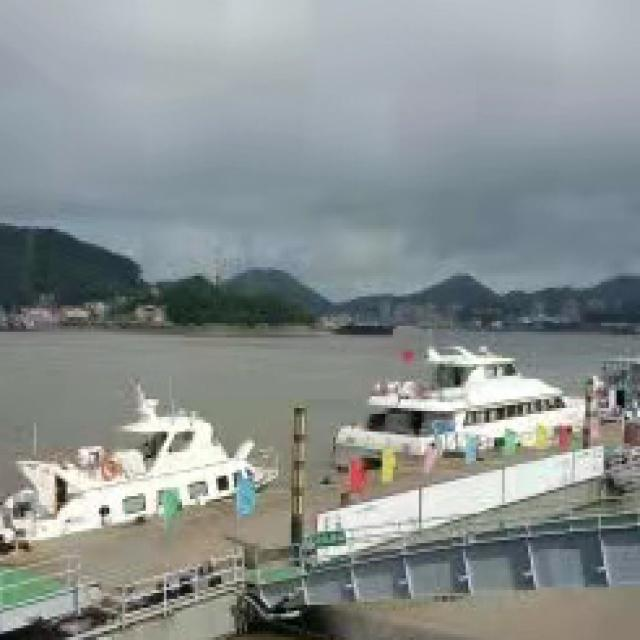houseboat: (0, 391, 284, 543), (334, 342, 592, 472)
